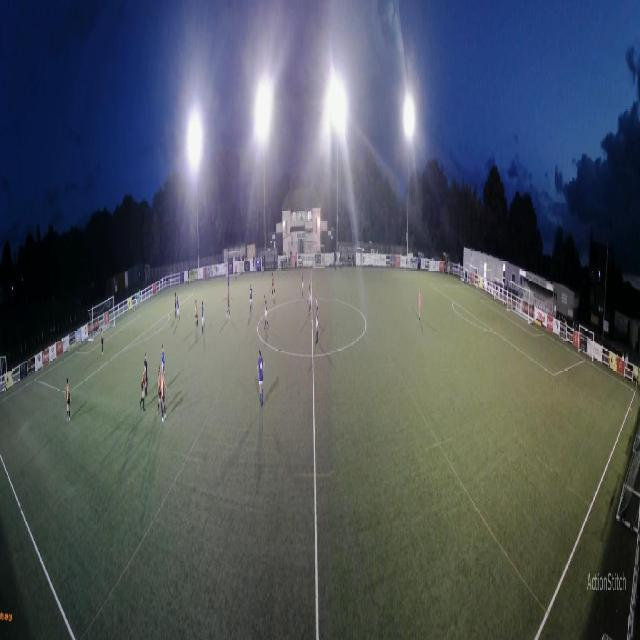ball: (134, 308, 135, 313)
player: (257, 349, 265, 407), (161, 367, 167, 424), (65, 377, 71, 424), (140, 366, 146, 412), (158, 366, 163, 417), (144, 353, 148, 398), (264, 294, 269, 330), (315, 299, 319, 343), (201, 301, 205, 336), (227, 287, 231, 321), (101, 325, 105, 357), (161, 345, 165, 376), (309, 278, 312, 316), (176, 296, 180, 324), (272, 271, 276, 298), (250, 285, 253, 316), (195, 299, 198, 329), (174, 292, 177, 318), (419, 288, 421, 320), (302, 271, 304, 298), (139, 290, 141, 310), (235, 262, 237, 282), (228, 274, 230, 293)
